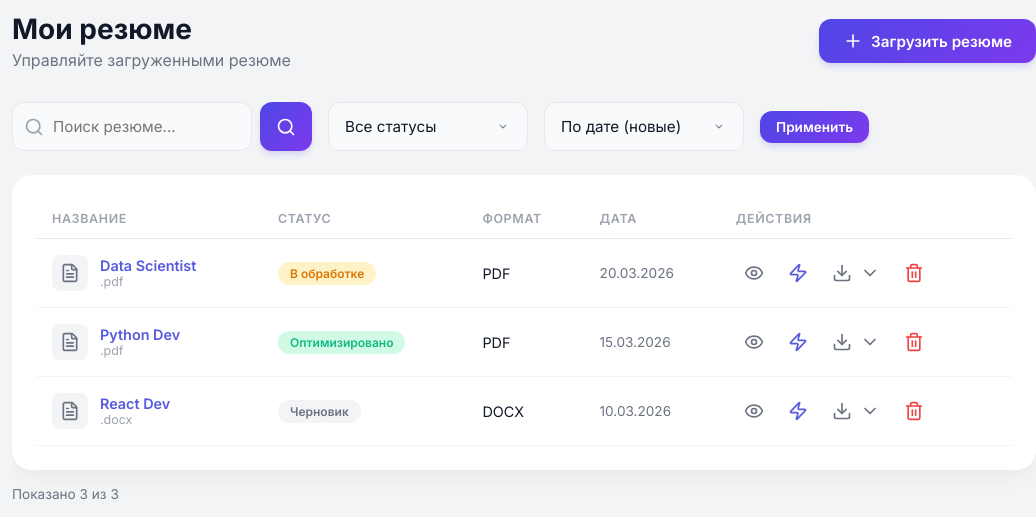
Test: ResumesPage (v3) › filters resumes by status
The image size is (1036, 517).
Expected: the text "Python Dev" is shown, 100,326 -> 180,343
Select "Черновик" in the 1st dropdown at point(428, 126), box 328,102 -> 528,151
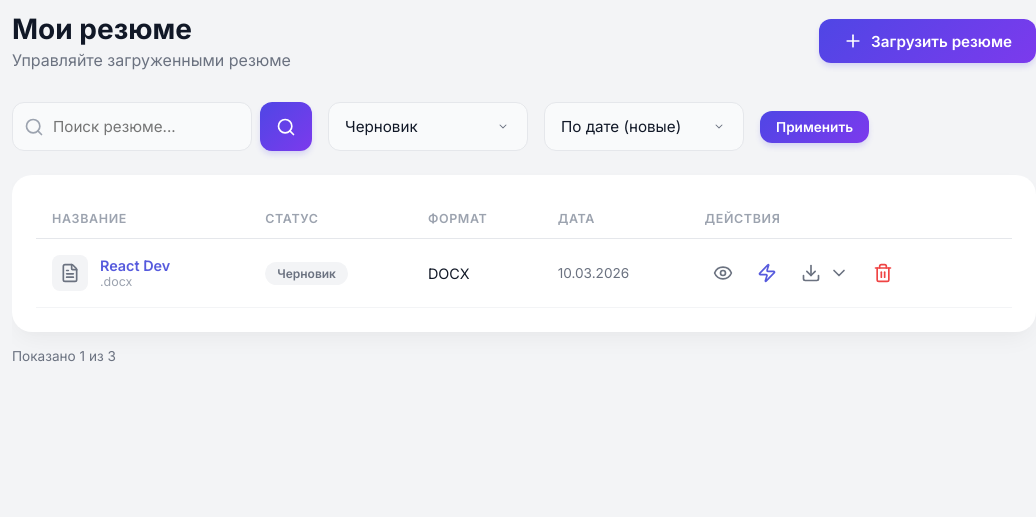
Expected: the text "React Dev" is shown, 100,257 -> 170,274
Expected: the text "Python Dev" is gone
